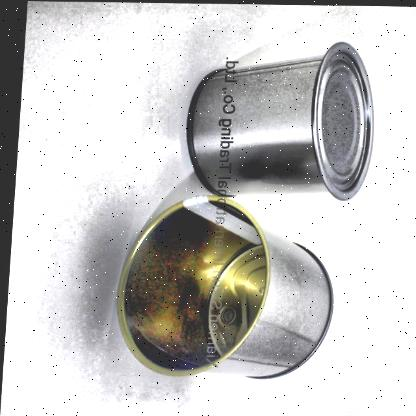Can: (117, 192, 332, 380), (184, 42, 380, 206)
